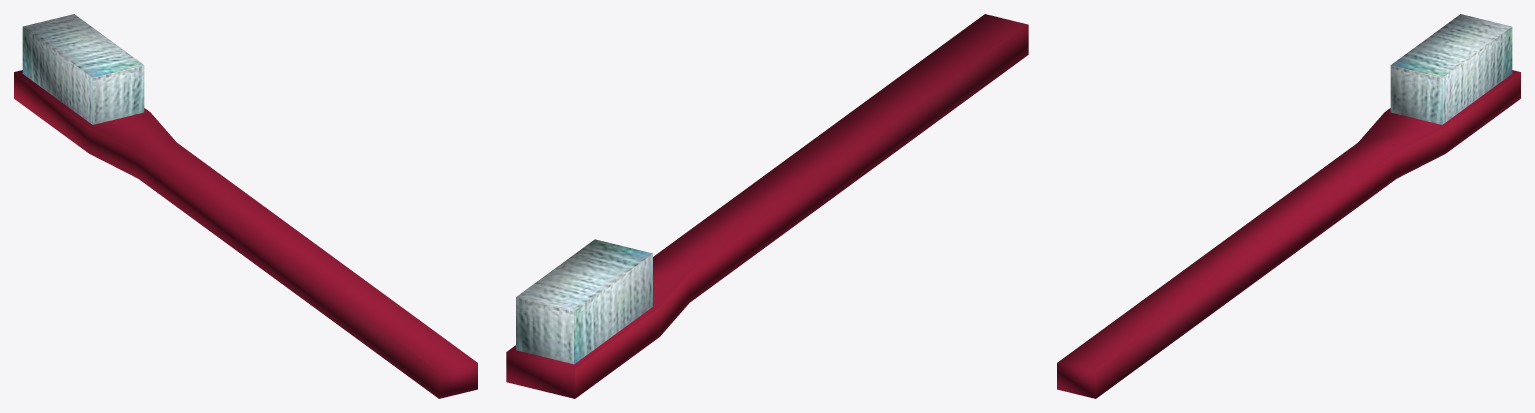
Rendered from Toothbrush.glb.
3 renders of one model, left to right at view 1: azimuth 30°, elevation 25°; view 2: azimuth 150°, elevation 25°; view 3: azimuth 330°, elevation 25°, orthographic. The views are drawn at different scales.
Visible parts, largest first — view 1: Toothbrush; view 2: Toothbrush; view 3: Toothbrush.
Part boxes in pixels (x1,y1,x2,y2): Toothbrush: [14, 14, 477, 398]; Toothbrush: [506, 14, 1028, 398]; Toothbrush: [1057, 14, 1520, 398].
Bounding box in the file's own units: 0.0165 × 0.019 × 0.1932.
Materials: 1 (1 with a texture image).
